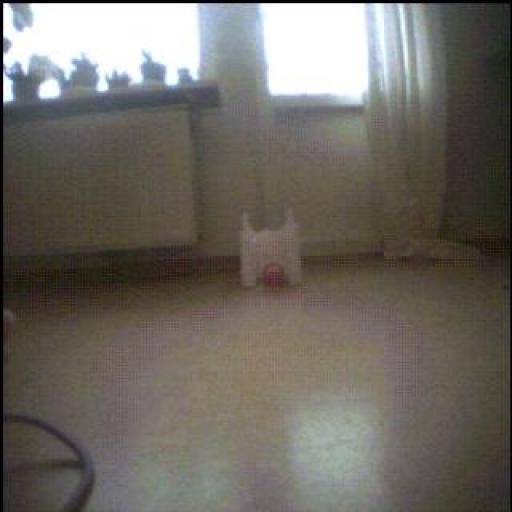Basket: (259, 264, 287, 289)
